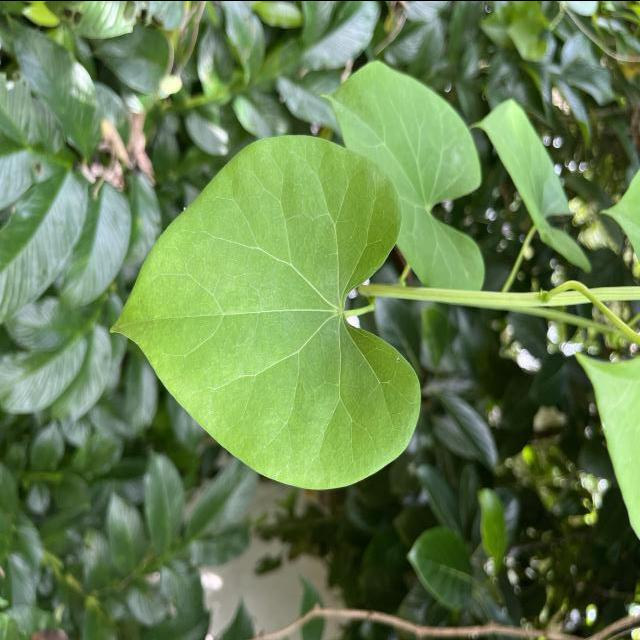Tinospora cordifolia: (104, 128, 427, 492)
